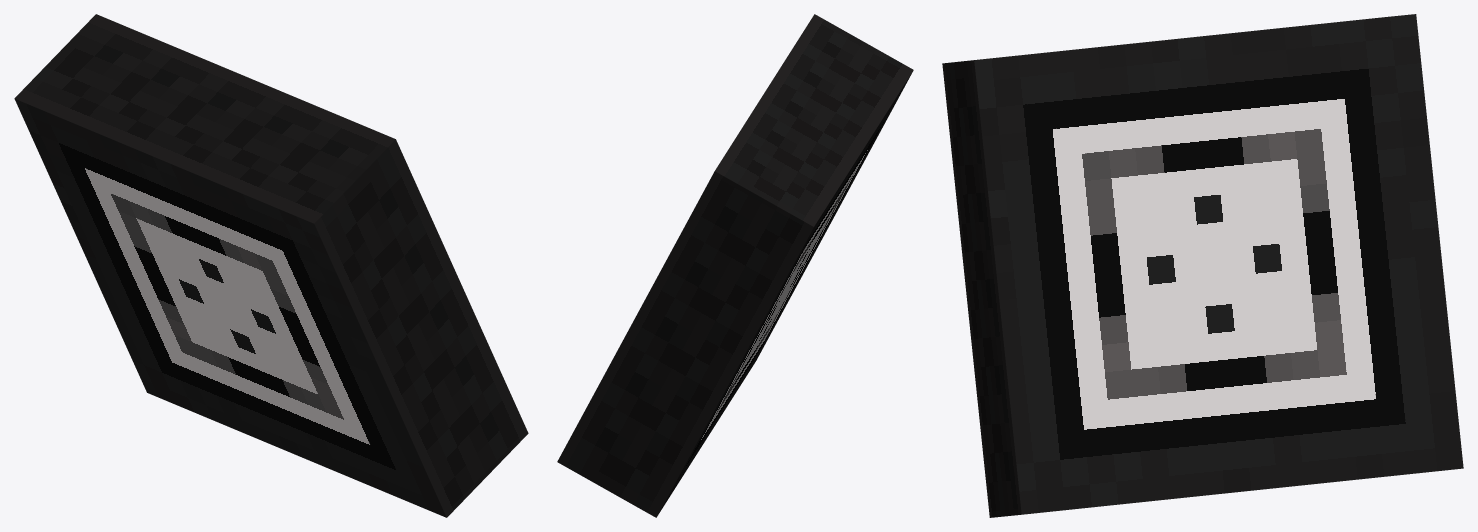
File: BLOCKYGON_CAR TIRE.fbx
3 views of the same model, side by side, from view 1: azimuth 30°, elevation 25°; view 2: azimuth 150°, elevation 25°; view 3: azimuth 270°, elevation 25° (orthographic). The views are drawn at different scales.
Parts seen in each view (by area): view 1: BLOCKYGON_CAR_TIRE; view 2: BLOCKYGON_CAR_TIRE; view 3: BLOCKYGON_CAR_TIRE.
Boxes of the visible parts, x1=… form: BLOCKYGON_CAR_TIRE: x1=14, y1=14, x2=528, y2=517; BLOCKYGON_CAR_TIRE: x1=557, y1=14, x2=913, y2=517; BLOCKYGON_CAR_TIRE: x1=942, y1=14, x2=1463, y2=517.
Bounding box in the file's own units: 93.56 × 104 × 114.
Materials: 1 (1 with a texture image).
